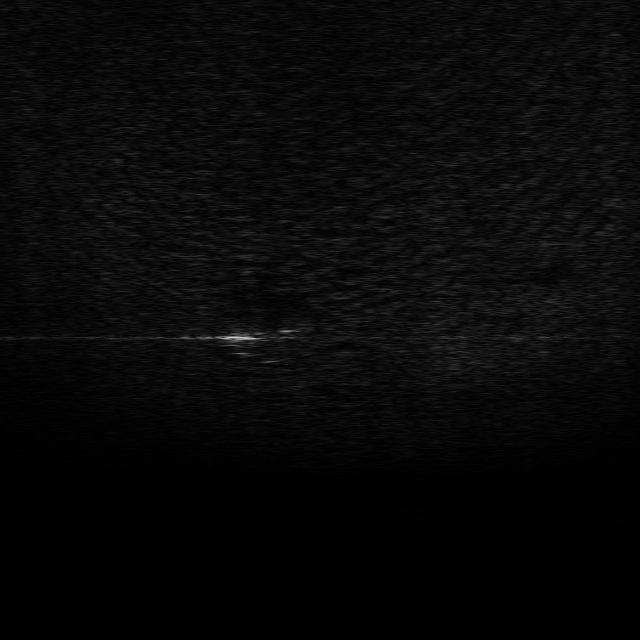plane: (221, 305, 310, 361)
